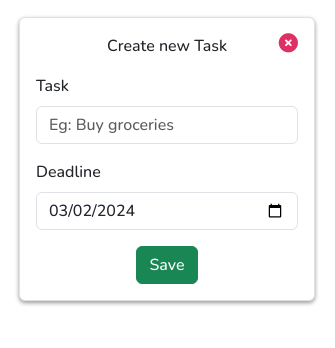
Test case: TodoForm Component › shows validation message when task is less than or equal to 10 characters
Type "Short" into the field labelled "Task" at [167, 125], box [36,106,298,144]
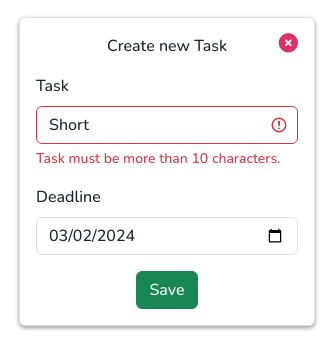
Check: the text "Task must be more than 10 characters." is shown, box [36,148,298,169]
